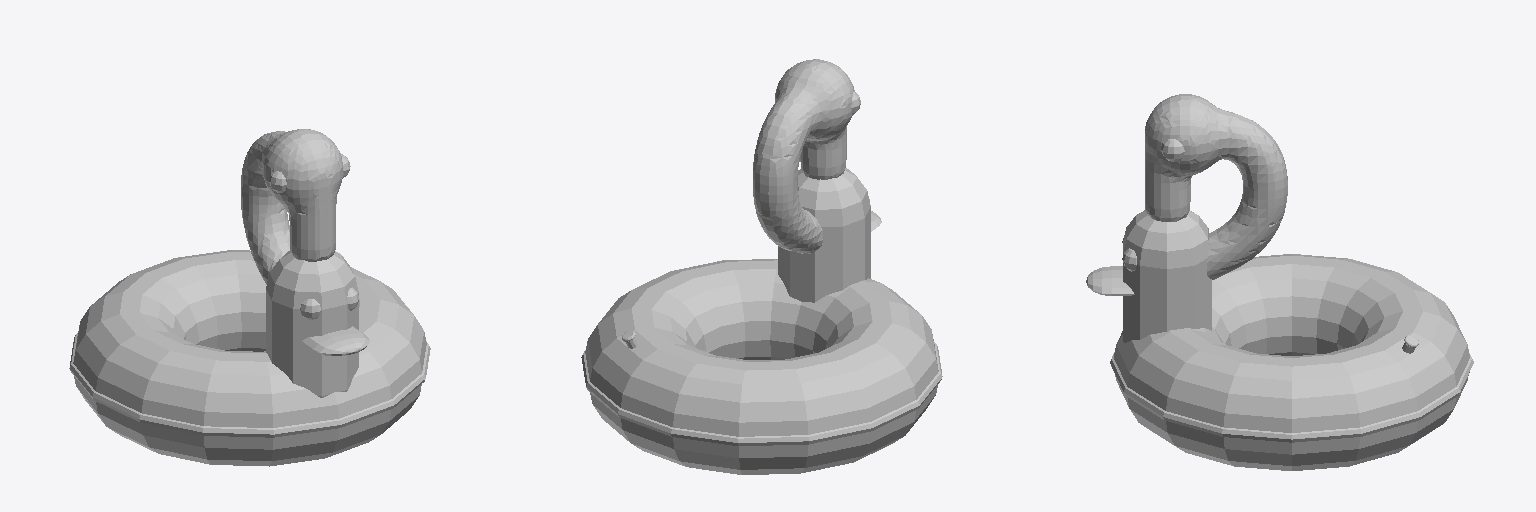
Rendered from boueesobj.obj.
3 renders of one model, left to right at view 1: azimuth 30°, elevation 25°; view 2: azimuth 150°, elevation 25°; view 3: azimuth 270°, elevation 25°, orthographic.
Parts seen in each view (by area): view 1: 1, 3; view 2: 1, 3; view 3: 1, 3.
Part boxes in pixels (bbox=[...]): 1: bbox=[69, 129, 430, 466]; 3: bbox=[266, 250, 369, 397]; 1: bbox=[581, 59, 942, 474]; 3: bbox=[778, 168, 881, 302]; 1: bbox=[1110, 94, 1473, 470]; 3: bbox=[1086, 210, 1211, 343].
Size of the model in its own units: 600 by 574 by 639.